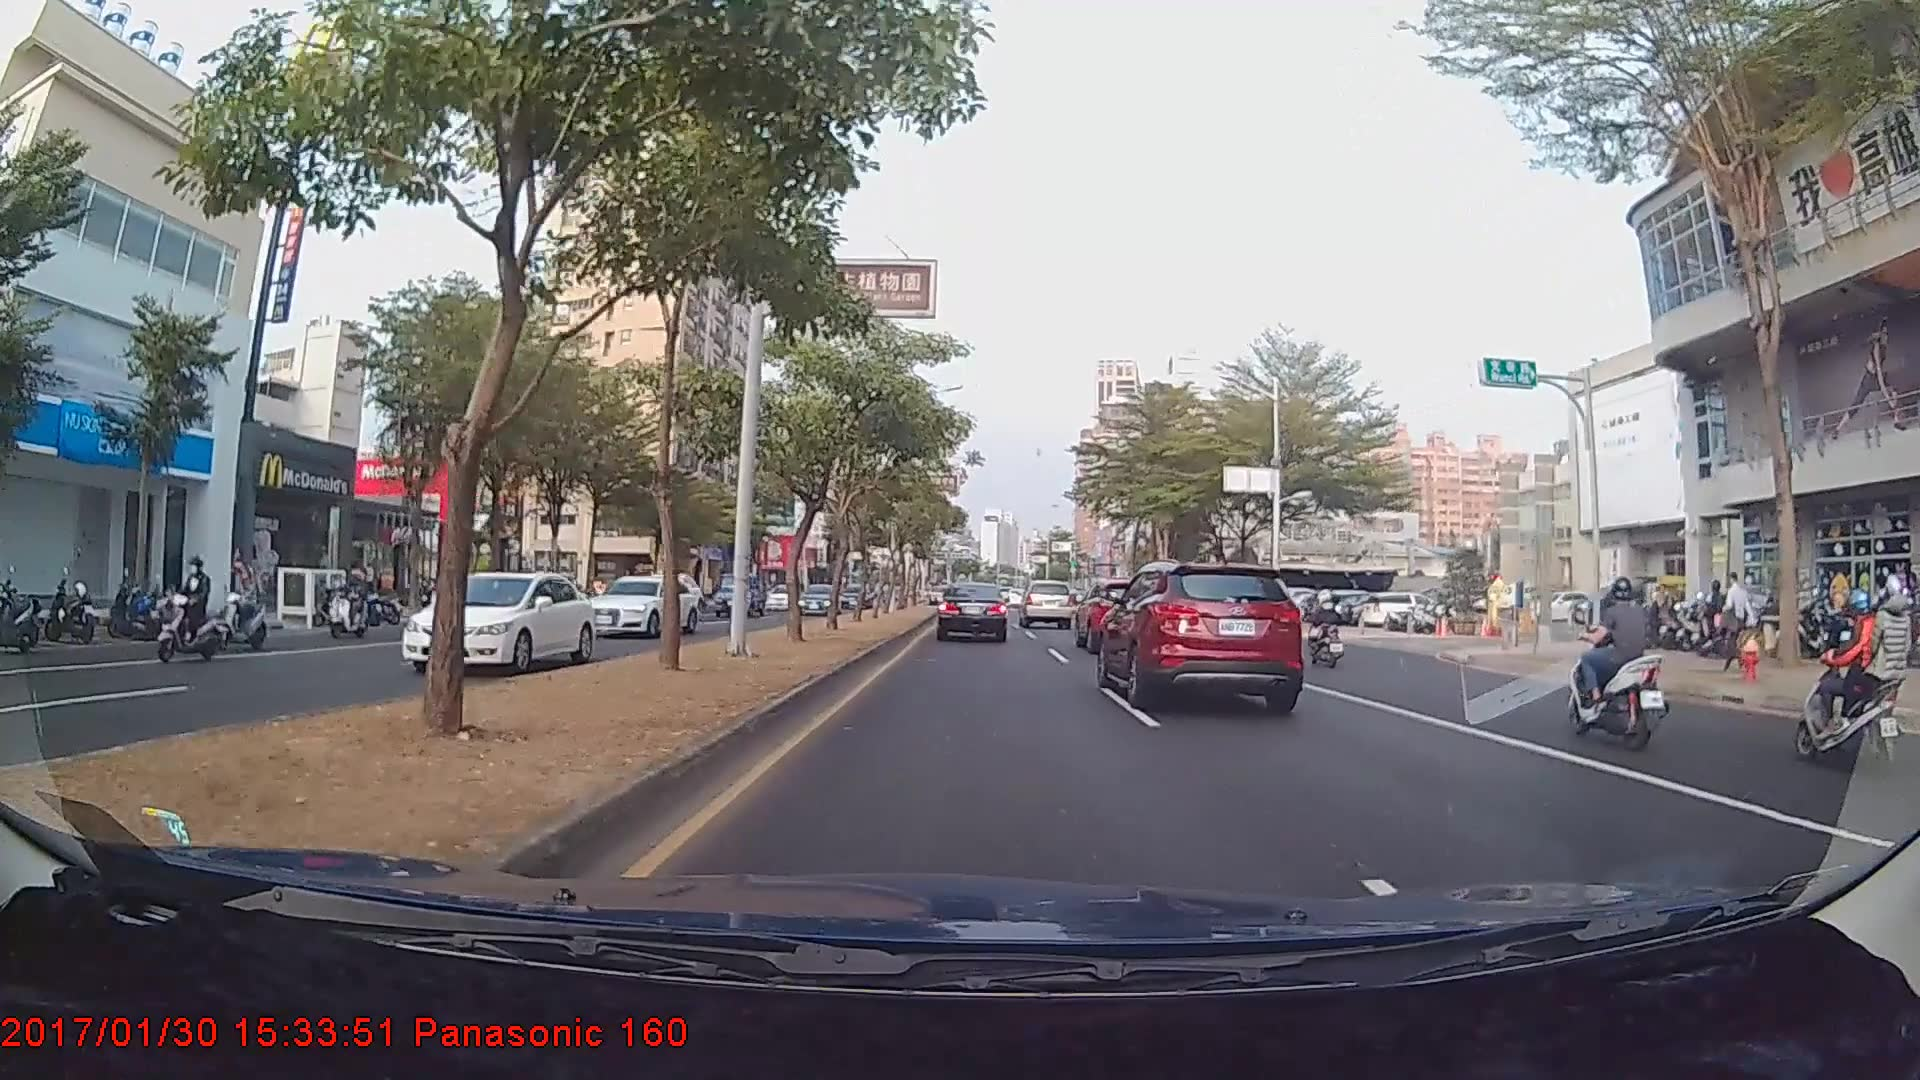pedestrian: (1720, 569, 1754, 669)
rider: (1794, 575, 1914, 771), (1558, 572, 1677, 751), (150, 551, 230, 670), (208, 558, 276, 652), (327, 566, 387, 646), (1300, 586, 1350, 668)
vehicle: (1100, 562, 1303, 706), (399, 570, 598, 677), (571, 576, 697, 638), (1070, 579, 1164, 653), (936, 579, 1009, 643), (1018, 578, 1076, 629), (714, 570, 767, 617), (796, 583, 841, 614)
